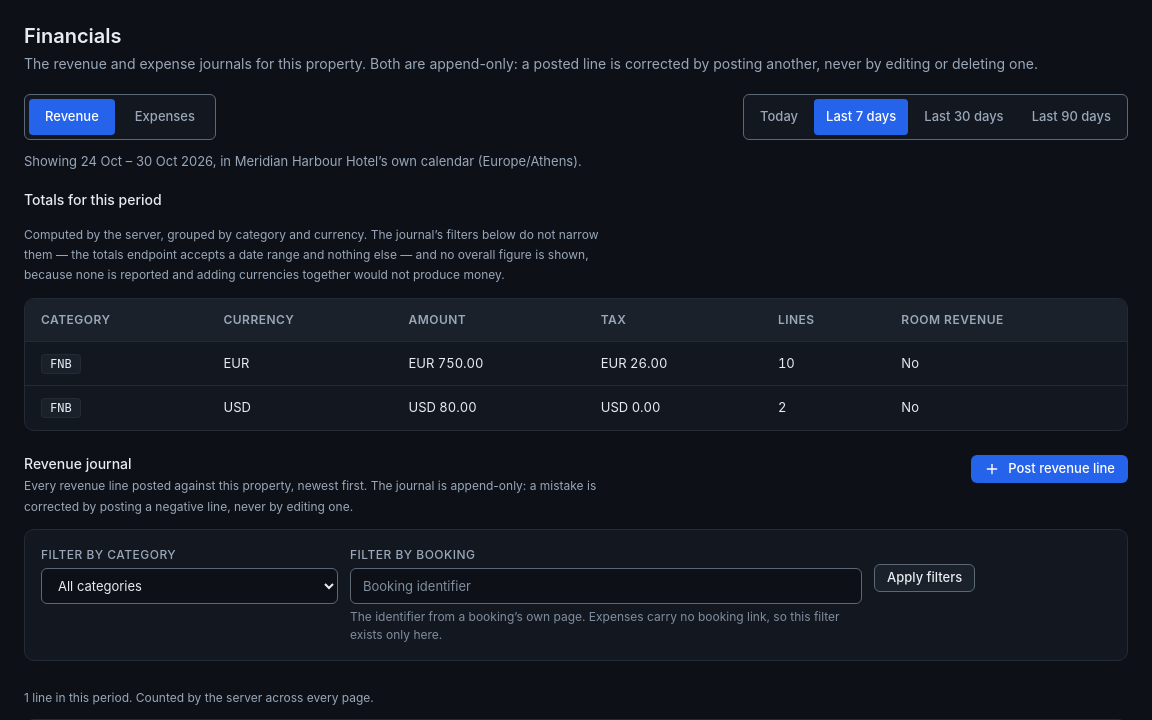
Scenario: the journal filters › sends a booking identifier, and offers that filter only on revenue
In the field labelled "Filter by booking": [606, 586] box [350,568,862,604], type "e5b72bf8-11a1-456b-9755-5a5ac5219782"
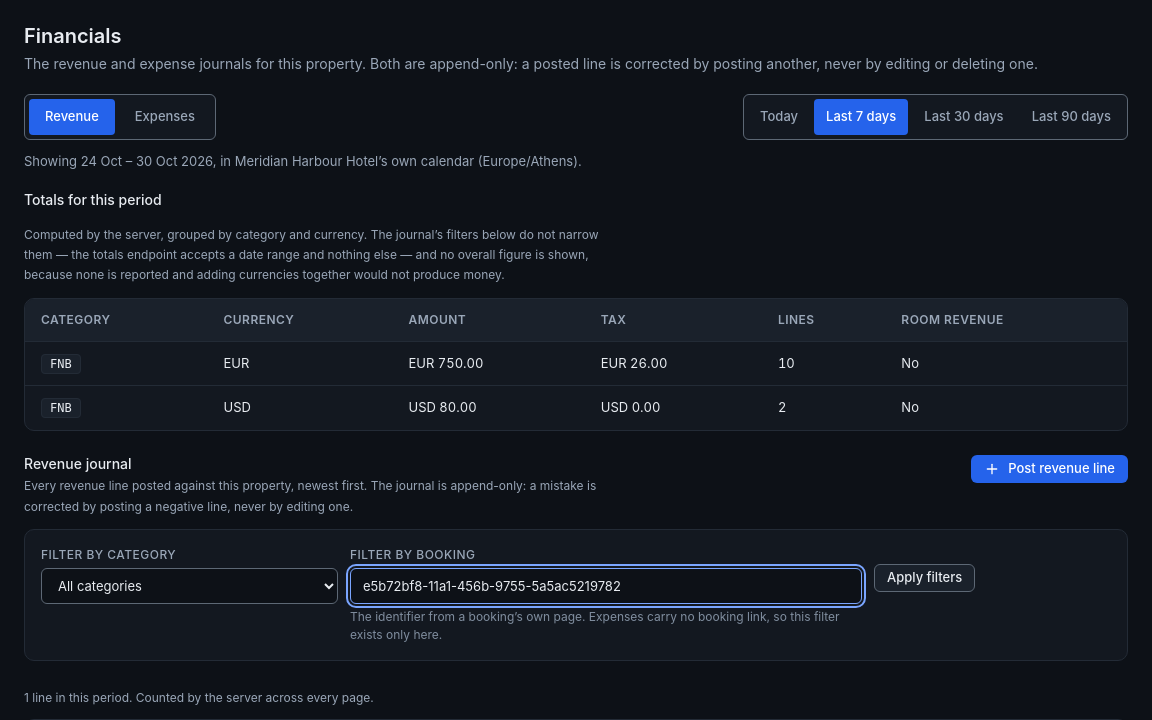
Click the button "Apply filters": [925, 578] box [874,564,975,592]
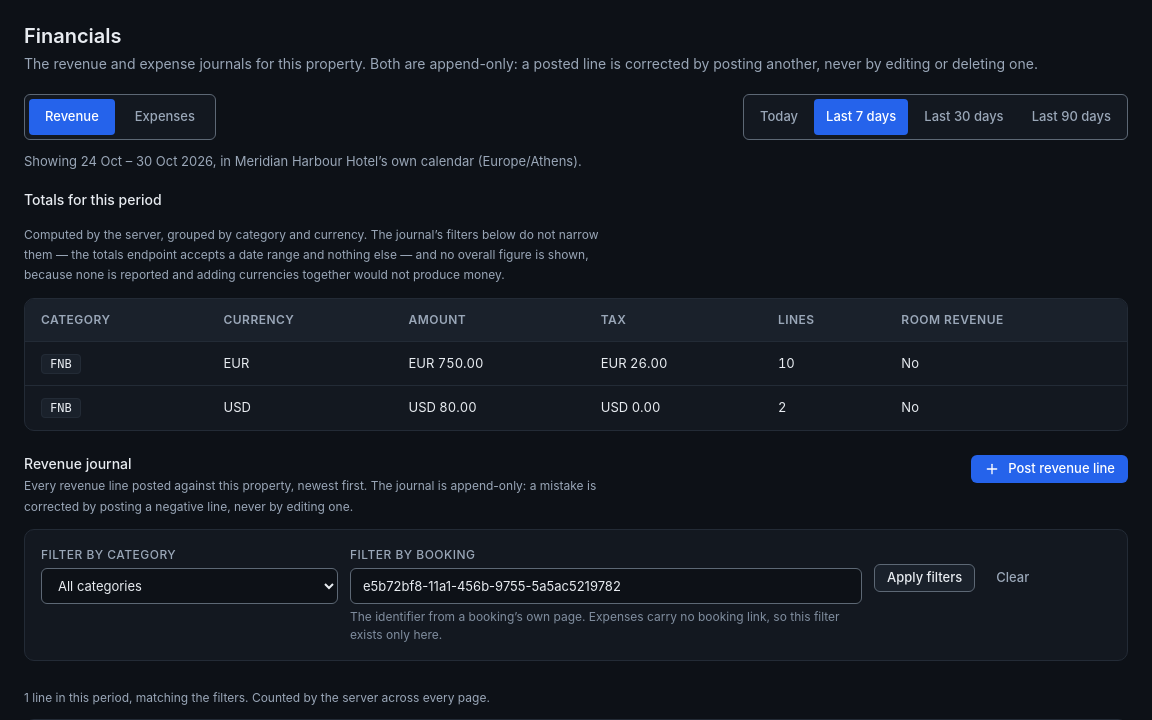
# The expense journal has no booking column, so it must not offer the control.
Click the radio button labelled "Expenses": [165, 116] box [135,108,195,124]
(page scrolled)
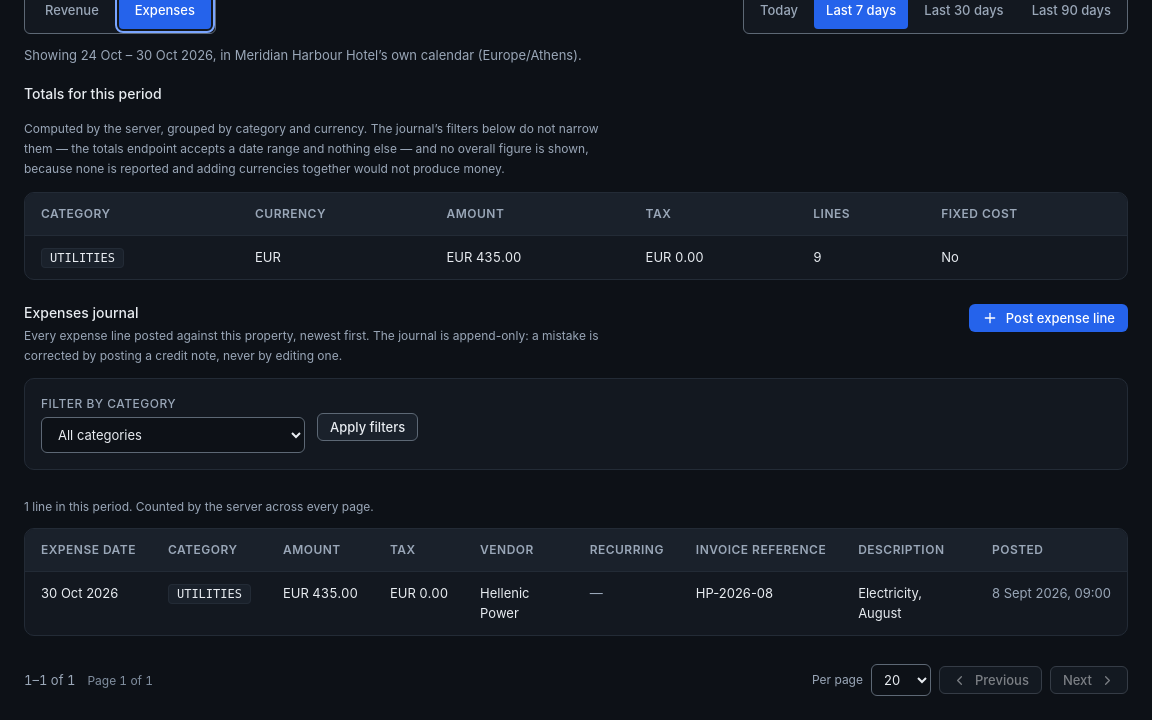
Now the text "Electricity, August" is shown, box [842,572,976,636]
Now the label labelled "Filter by booking" is gone
